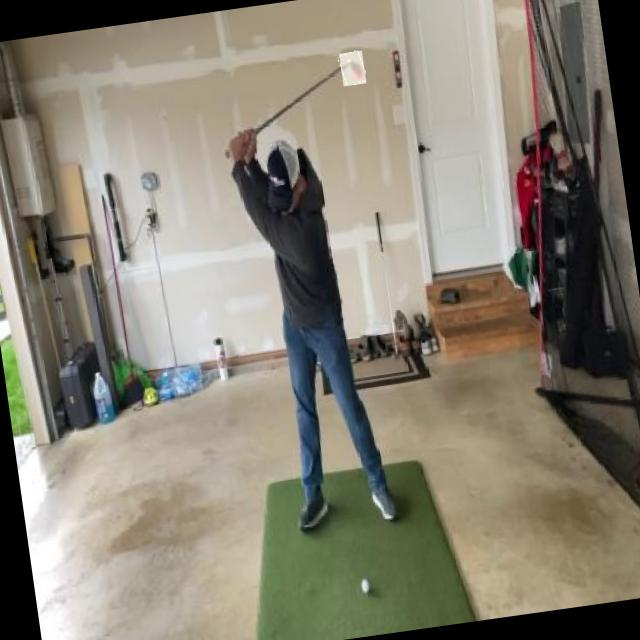club head: (339, 50, 367, 86)
